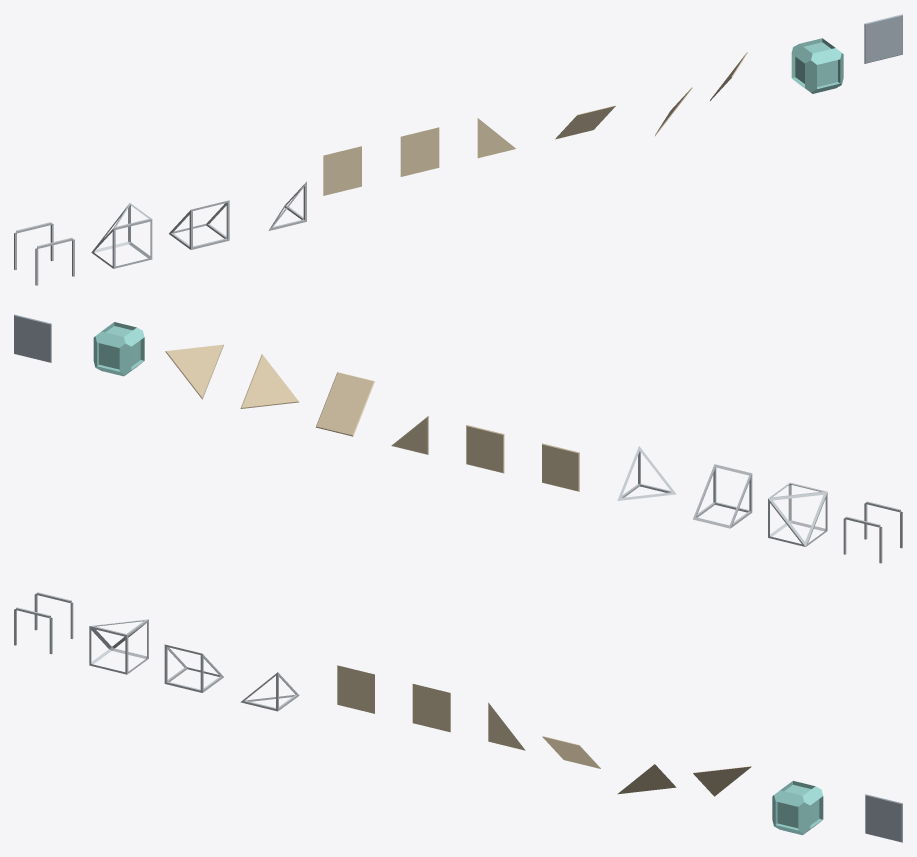
Rendered from authoring-template.glb.
3 renders of one model, top to bottom at view 1: azimuth 30°, elevation 25°; view 2: azimuth 150°, elevation 25°; view 3: azimuth 330°, elevation 25°, orthographic. The views are drawn at different scales.
Visible parts, largest first — view 1: MODULE_m1power_authored_full_cell, PLATE_p1111_flat_panel_variant, PLATE_p1111_archive_default, WING_w1111_skin, SHELL_k7_corner_cut, SHELL_k6_wedge, PLATE_p121_tri_default, PLATE_p2121_slope_default, SHELL_k8; view 2: PLATE_p2121_slope_default, MODULE_m1power_authored_full_cell, PLATE_p222A_diag_default, PLATE_p222V_cut_default, PLATE_p1111_flat_panel_variant, PLATE_p1111_archive_default, WING_w1111_skin, SHELL_k7_corner_cut, SHELL_k6_wedge, SHELL_k4_tetra, SHELL_k8, PLATE_p121_tri_default; view 3: MODULE_m1power_authored_full_cell, PLATE_p1111_flat_panel_variant, PLATE_p1111_archive_default, WING_w1111_skin, SHELL_k7_corner_cut, SHELL_k6_wedge, PLATE_p222V_cut_default, PLATE_p222A_diag_default, SHELL_k8, PLATE_p121_tri_default, PLATE_p2121_slope_default, SHELL_k4_tetra.
Part boxes in pixels (left/top/right/bottom): MODULE_m1power_authored_full_cell: left=791, top=38, right=843, bottom=93; PLATE_p1111_flat_panel_variant: left=400, top=127, right=439, bottom=176; PLATE_p1111_archive_default: left=323, top=146, right=361, bottom=195; WING_w1111_skin: left=864, top=14, right=902, bottom=63; SHELL_k7_corner_cut: left=91, top=203, right=152, bottom=268; SHELL_k6_wedge: left=169, top=200, right=229, bottom=249; PLATE_p121_tri_default: left=477, top=118, right=515, bottom=158; PLATE_p2121_slope_default: left=555, top=105, right=615, bottom=139; SHELL_k8: left=14, top=222, right=74, bottom=285; PLATE_p2121_slope_default: left=315, top=372, right=374, bottom=436; MODULE_m1power_authored_full_cell: left=93, top=322, right=144, bottom=376; PLATE_p222A_diag_default: left=240, top=354, right=299, bottom=408; PLATE_p222V_cut_default: left=165, top=344, right=223, bottom=399; PLATE_p1111_flat_panel_variant: left=466, top=425, right=504, bottom=473; PLATE_p1111_archive_default: left=542, top=443, right=579, bottom=491; WING_w1111_skin: left=14, top=314, right=51, bottom=362; SHELL_k7_corner_cut: left=768, top=482, right=827, bottom=546; SHELL_k6_wedge: left=693, top=464, right=752, bottom=528; SHELL_k4_tetra: left=617, top=446, right=676, bottom=500; SHELL_k8: left=843, top=501, right=902, bottom=563; PLATE_p121_tri_default: left=391, top=416, right=428, bottom=454; MODULE_m1power_authored_full_cell: left=772, top=781, right=823, bottom=835; PLATE_p1111_flat_panel_variant: left=412, top=684, right=450, bottom=732; PLATE_p1111_archive_default: left=337, top=665, right=374, bottom=713; WING_w1111_skin: left=865, top=794, right=902, bottom=842; SHELL_k7_corner_cut: left=89, top=619, right=148, bottom=674; SHELL_k6_wedge: left=164, top=644, right=223, bottom=692; PLATE_p222V_cut_default: left=693, top=766, right=751, bottom=796; PLATE_p222A_diag_default: left=617, top=764, right=676, bottom=794; SHELL_k8: left=14, top=592, right=73, bottom=654; PLATE_p121_tri_default: left=488, top=702, right=525, bottom=750; PLATE_p2121_slope_default: left=542, top=736, right=600, bottom=768; SHELL_k4_tetra: left=240, top=672, right=299, bottom=711.
Bounding box in the file's own units: 23 × 1 × 1.02.
